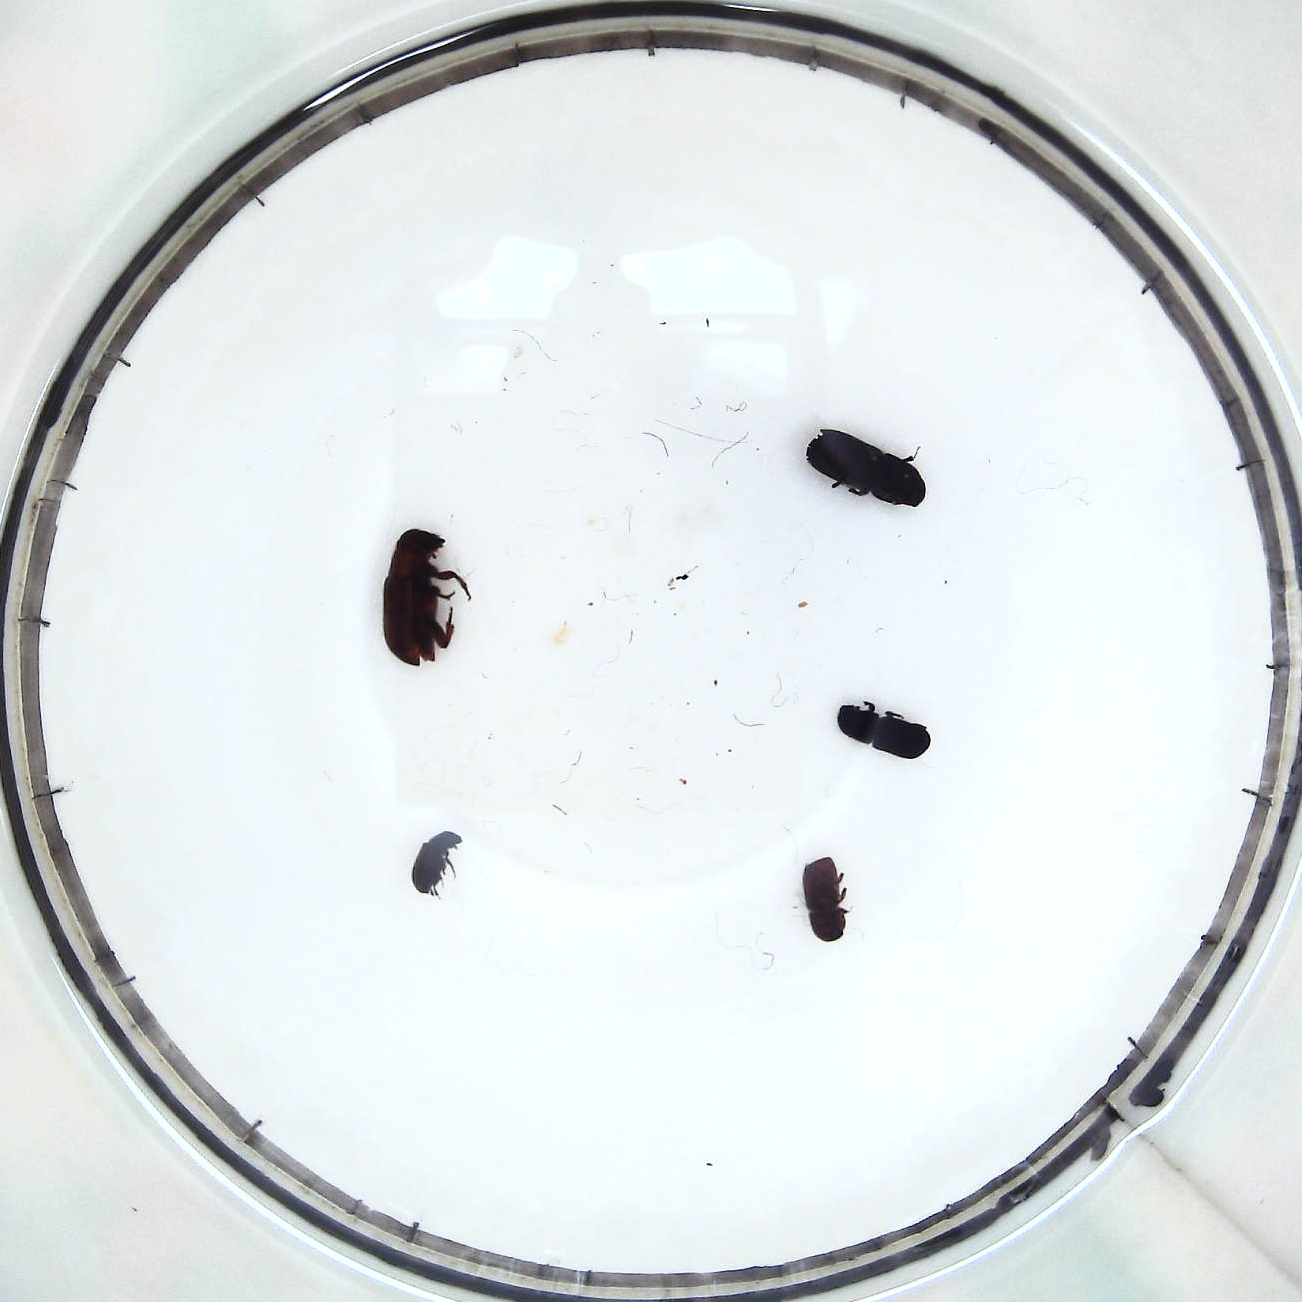Boerner: (800, 424, 934, 510)
Leconte: (379, 531, 467, 671)
Linnaeus: (800, 855, 852, 945)
armandi: (833, 695, 934, 765)
coleoptera: (411, 827, 464, 898)
